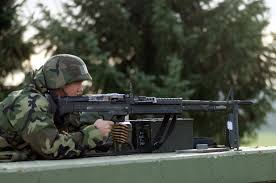gun: (49, 78, 253, 147)
